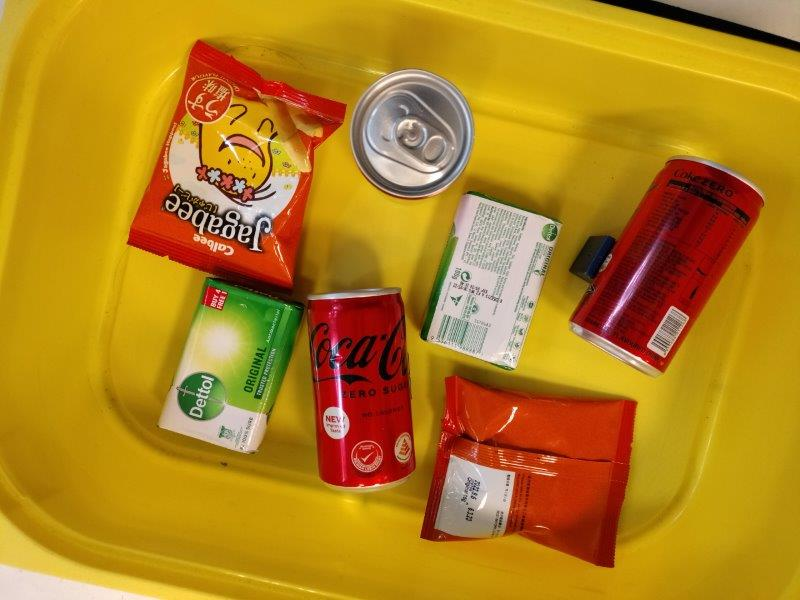Coke: (569, 157, 767, 377), (308, 288, 417, 488), (351, 68, 476, 200)
Dettol: (155, 276, 303, 456), (420, 193, 560, 368)
Jagabee: (126, 40, 345, 296), (419, 375, 640, 568)
